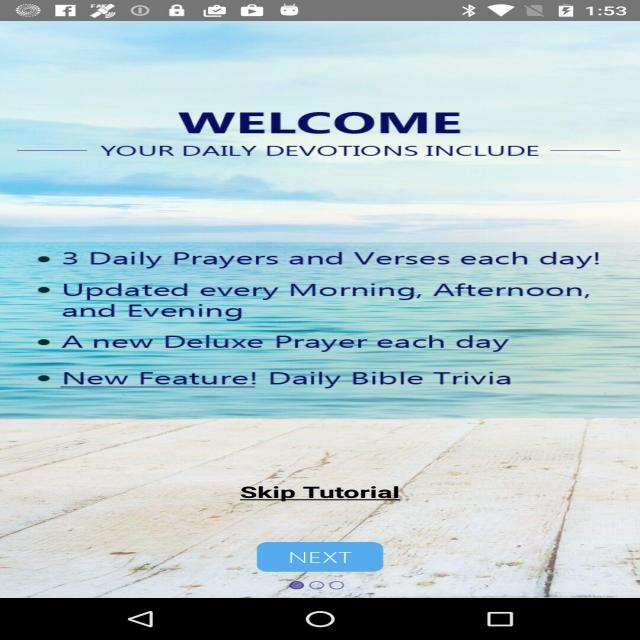button: (231, 540, 504, 571)
text: (41, 78, 606, 505)
